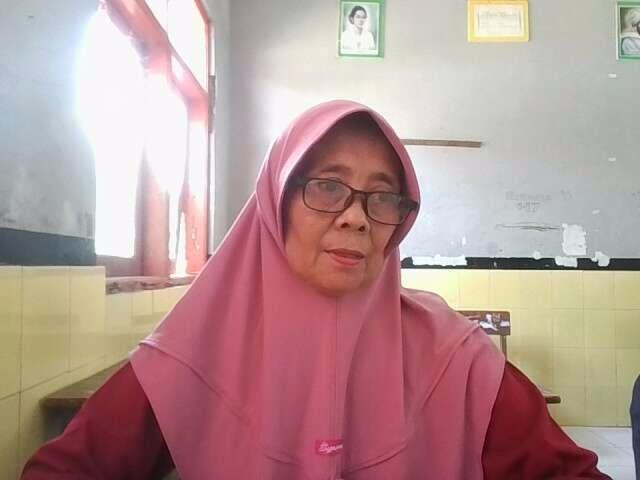cheating: (0, 82, 630, 480)
